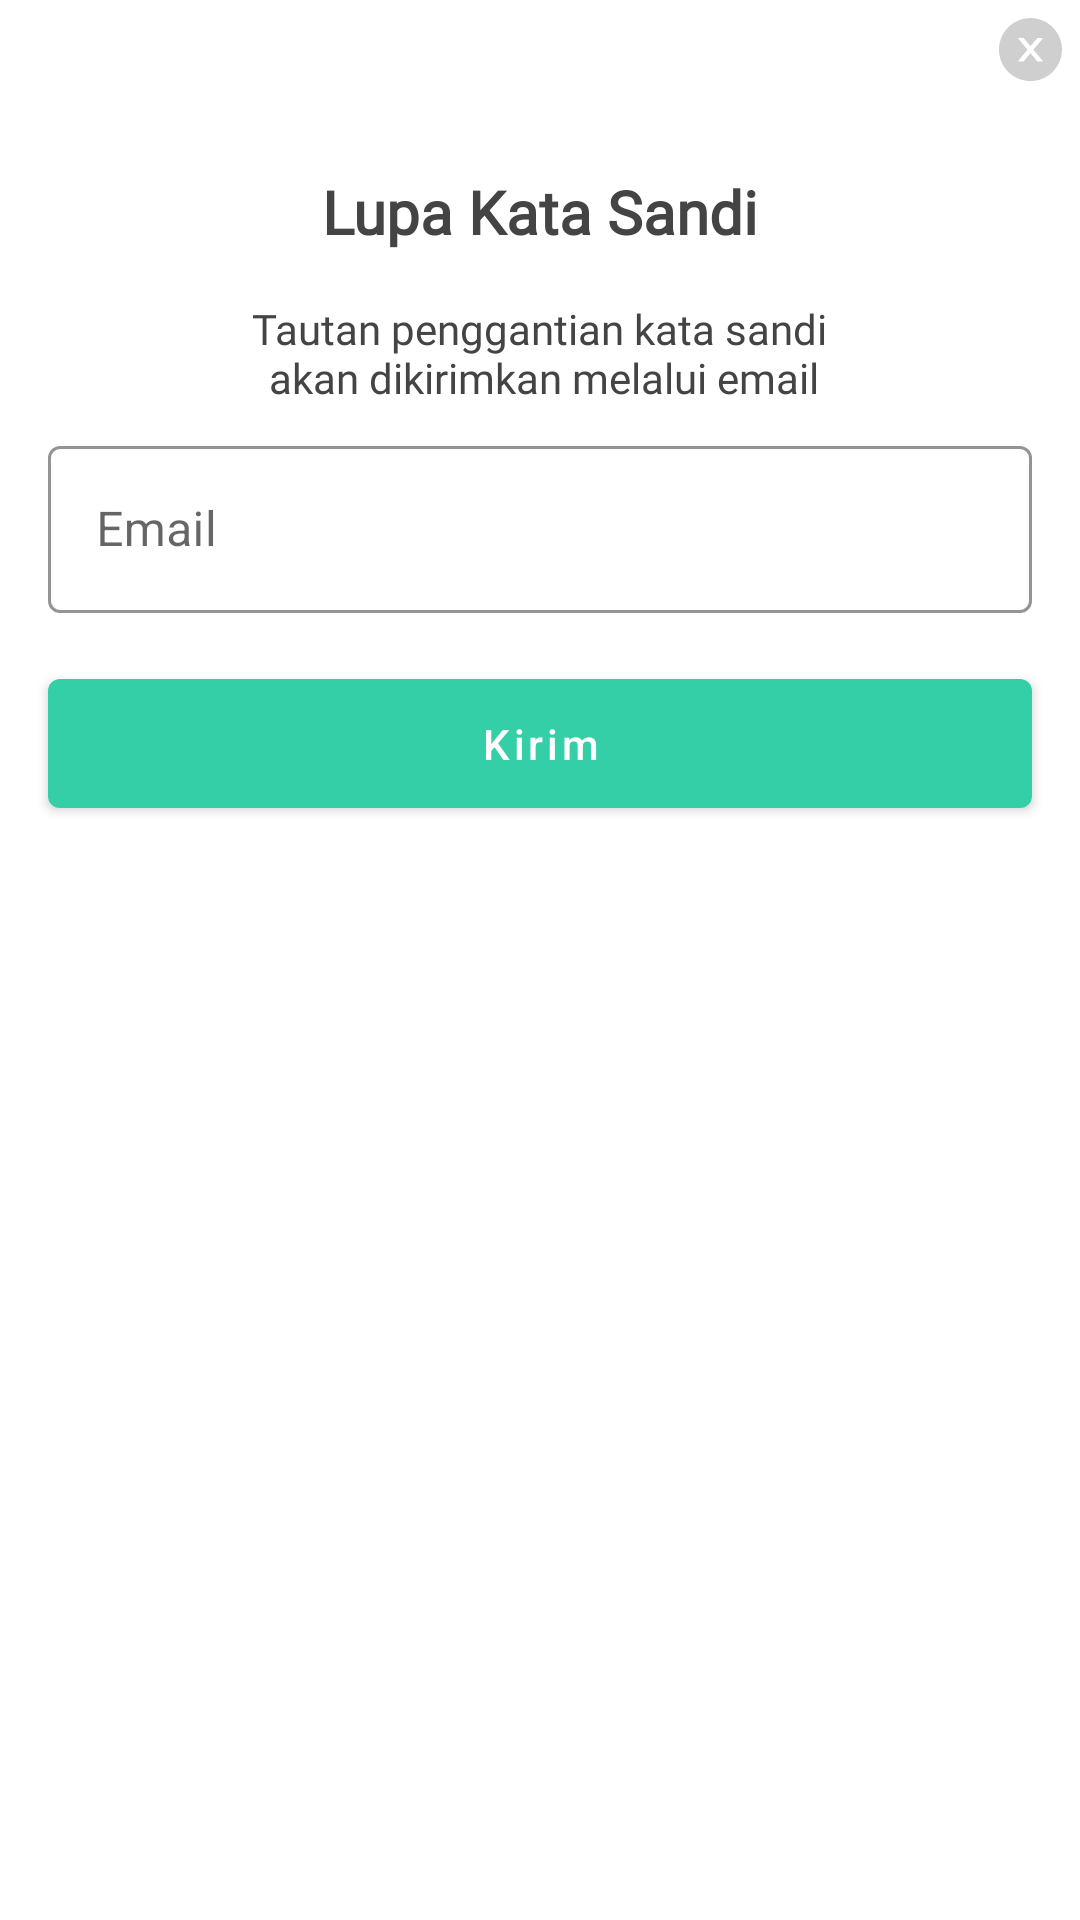

Icons on this 1080 x 1920 Android screen, each with the point to tap as (x=x, y=y):
close: (x=1030, y=49)
